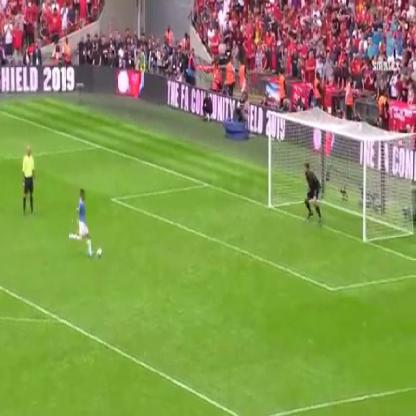penalty kick: (53, 102, 343, 273)
